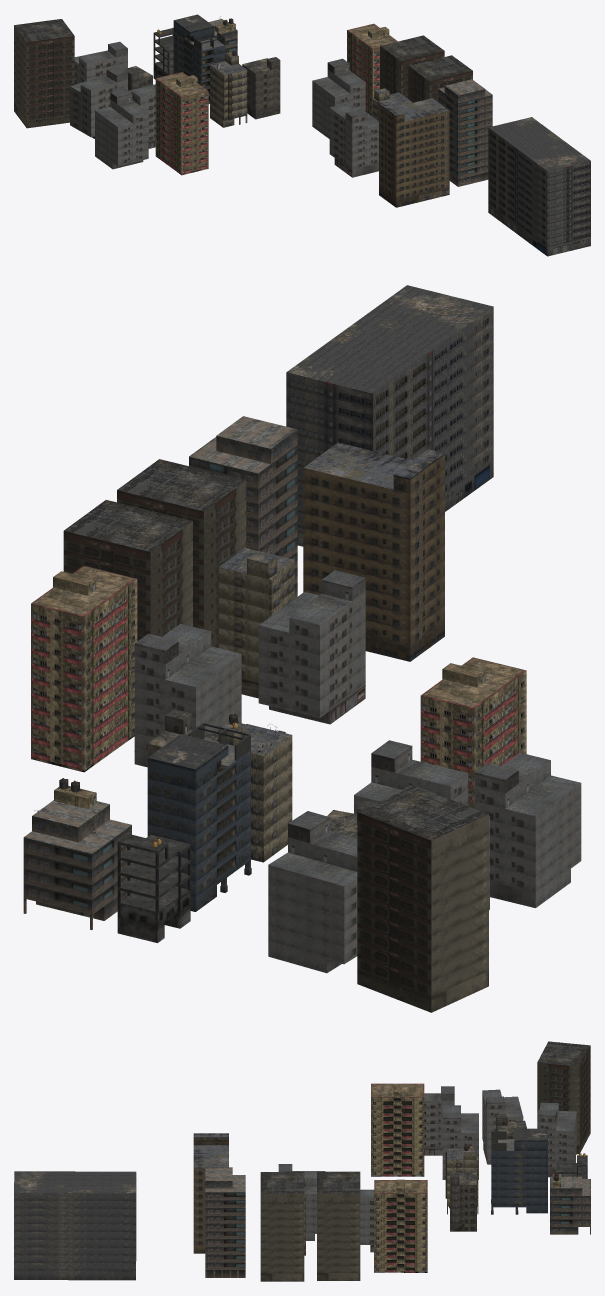
File: BuildingSet_05.FBX
The picture shows the model from 3 angles, top to bottom: view 1: azimuth 30°, elevation 25°; view 2: azimuth 150°, elevation 25°; view 3: azimuth 270°, elevation 25°; orthographic projection. The views are drawn at different scales.
Visible parts, largest first — view 1: BuildingSet_05; view 2: BuildingSet_05; view 3: BuildingSet_05.
Part boxes in pixels (box(x1,y1,x2,y2)): BuildingSet_05: box(14, 14, 590, 256); BuildingSet_05: box(23, 285, 581, 1012); BuildingSet_05: box(14, 1041, 590, 1281).
Bounding box in the file's own units: 21473 × 6154 × 34388.
Materials: 1 (1 with a texture image).
